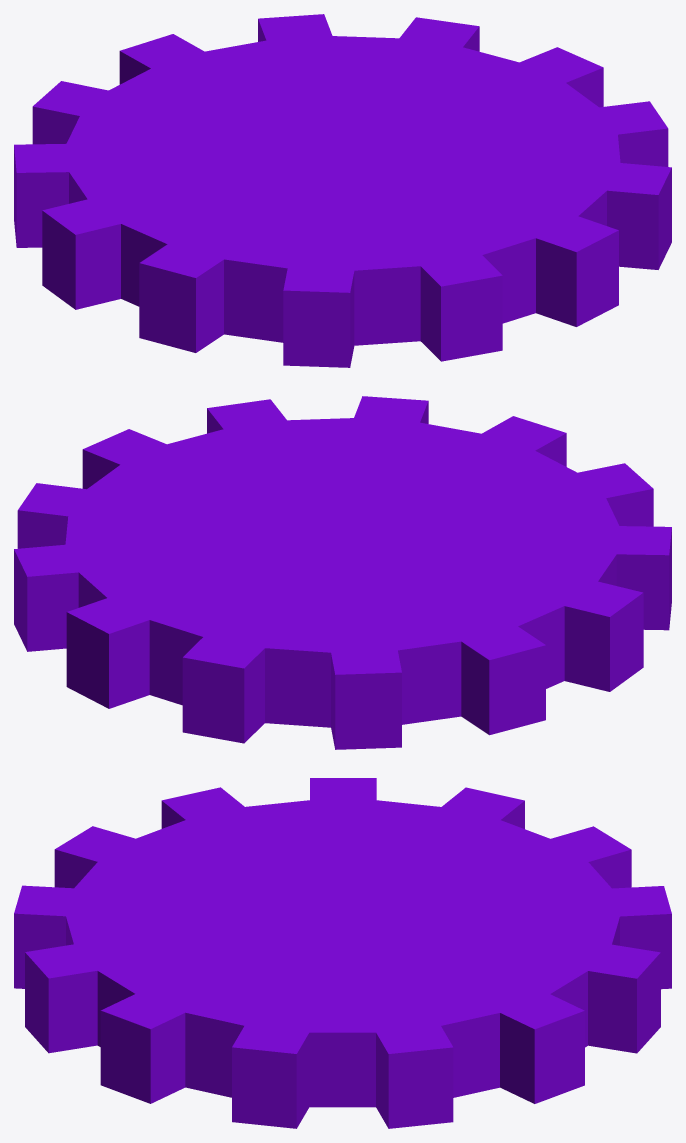
The model's file is cog.fbx.
3 renders of one model, top to bottom at view 1: azimuth 30°, elevation 25°; view 2: azimuth 150°, elevation 25°; view 3: azimuth 270°, elevation 25°, orthographic.
Parts seen in each view (by area): view 1: Cylinder.003; view 2: Cylinder.003; view 3: Cylinder.003.
Part boxes in pixels (left/top/right/bottom): Cylinder.003: left=14, top=14, right=671, bottom=367; Cylinder.003: left=14, top=396, right=671, bottom=749; Cylinder.003: left=14, top=778, right=671, bottom=1128.
Bounding box in the file's own units: 485 × 61.27 × 489.
